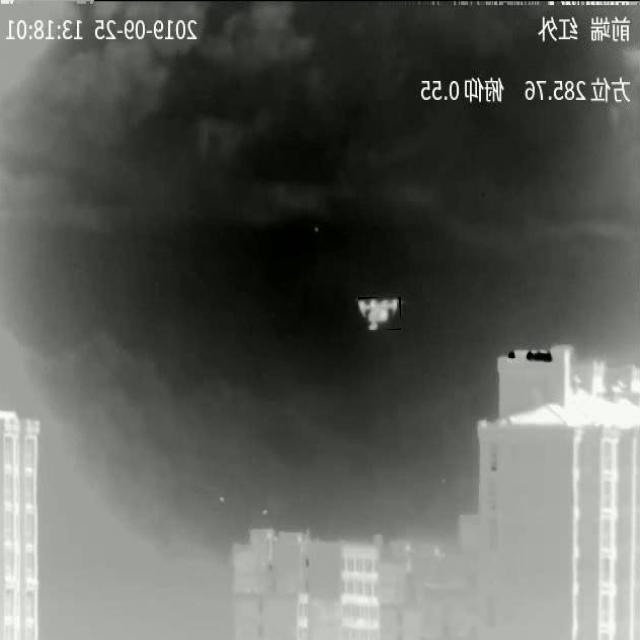drone: (358, 298, 400, 330)
